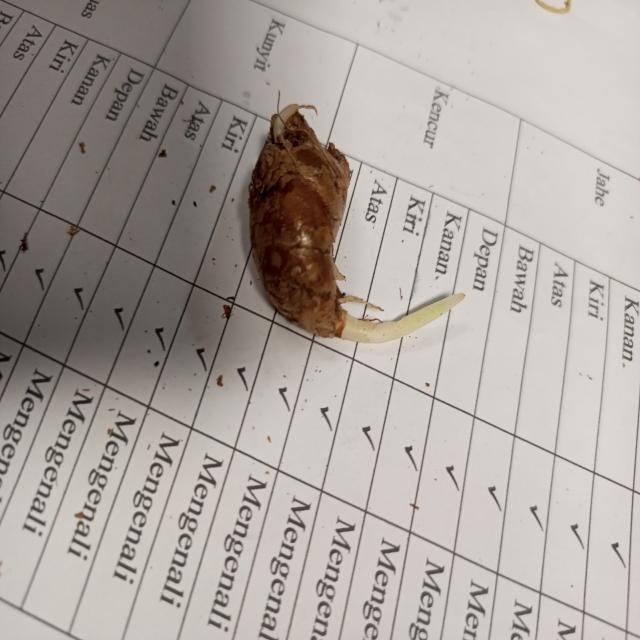ginger: (254, 109, 361, 338)
